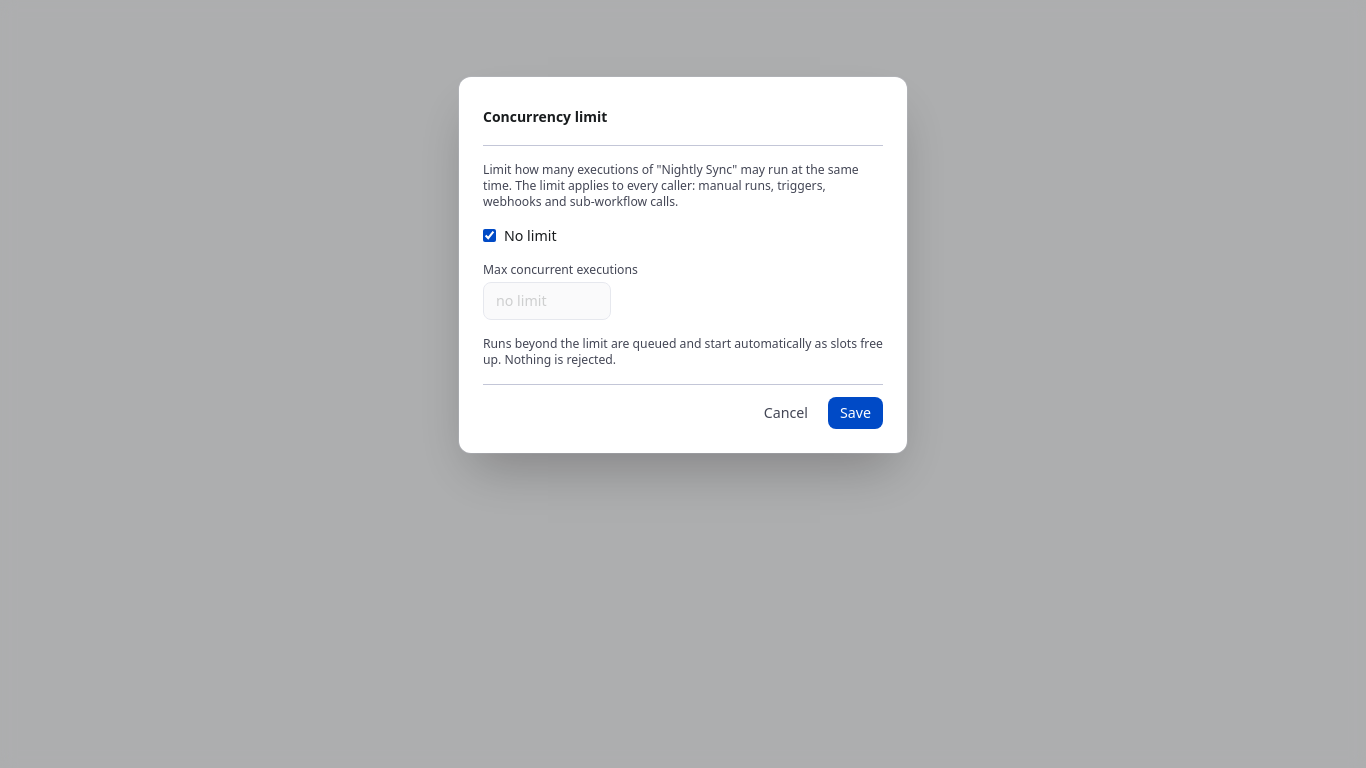
Test: ConcurrencyLimitDialog › suggests a value only once a limit is opted into
The width and height of the screenshot is (1366, 768).
Click the checkbox at (490, 236), box x1=483 y1=229 x2=496 y2=242
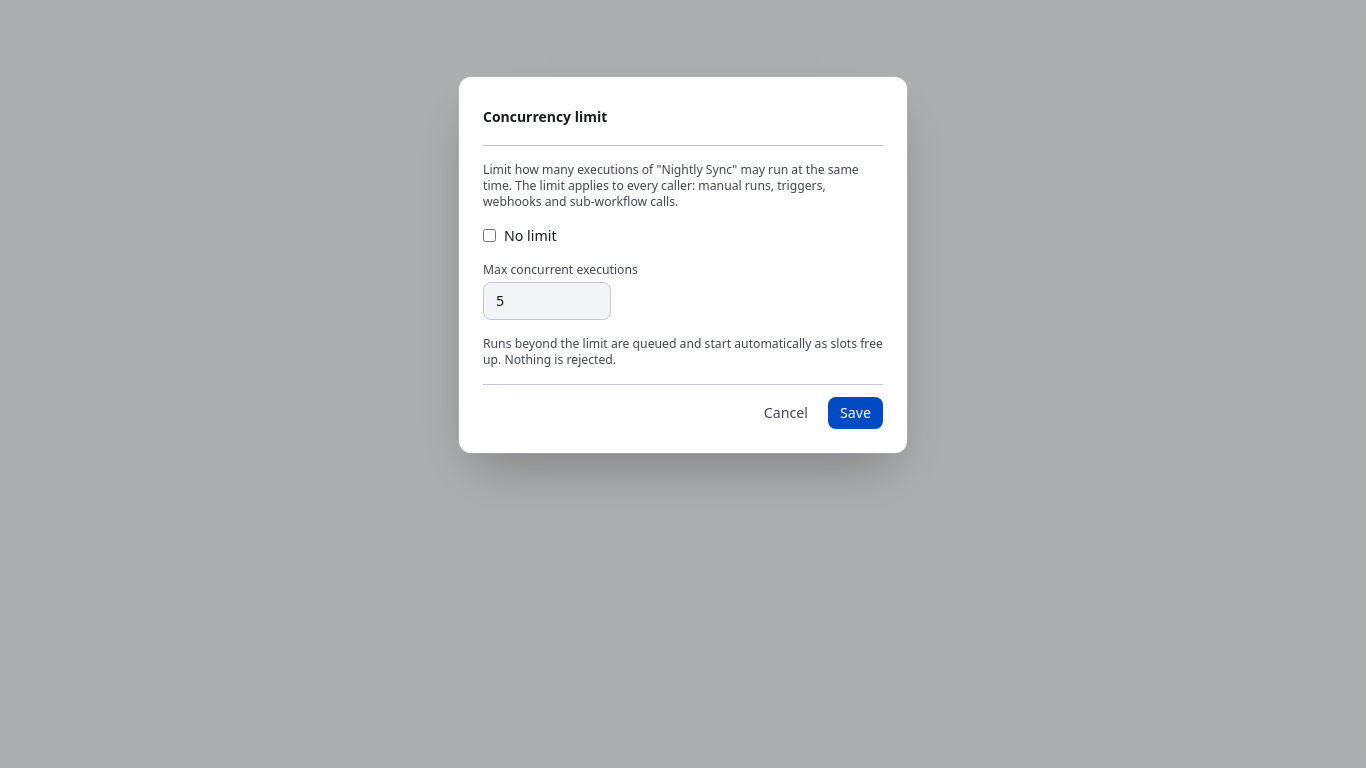
Result: the number field is enabled at x1=483 y1=282 x2=611 y2=320
Result: the number field holds "5" at x1=483 y1=282 x2=611 y2=320
